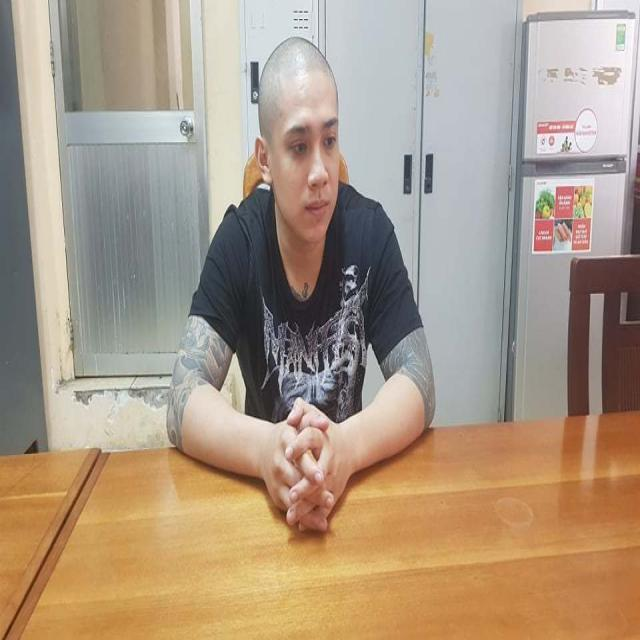Nonhelmet: (252, 34, 344, 245)
